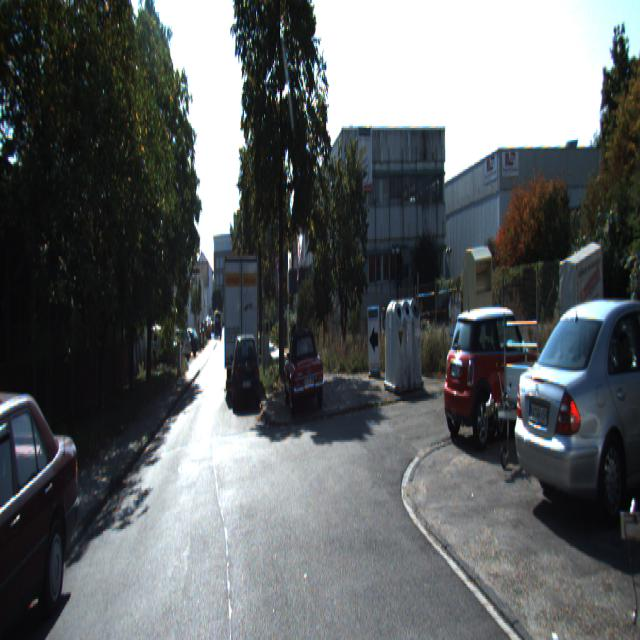Car: (510, 280, 640, 532), (0, 367, 85, 638), (553, 406, 639, 638), (464, 313, 580, 479), (441, 305, 555, 448), (552, 245, 603, 361), (222, 250, 257, 395), (282, 326, 326, 415), (230, 326, 258, 411)
